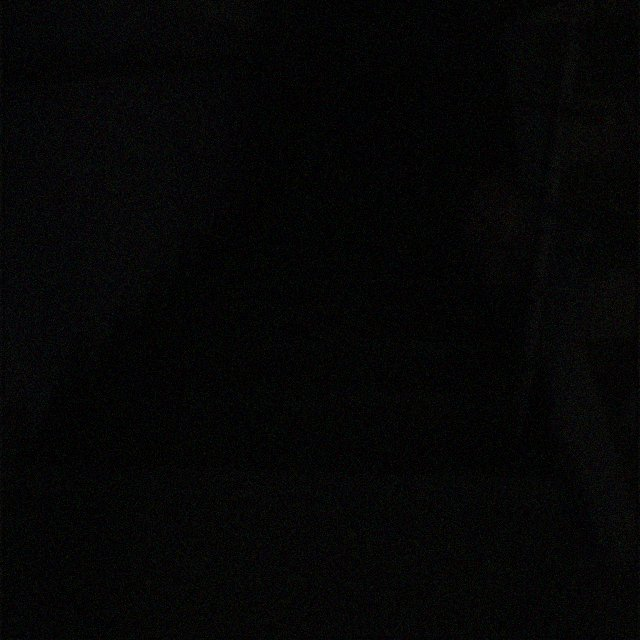stair: (4, 181, 635, 637)
